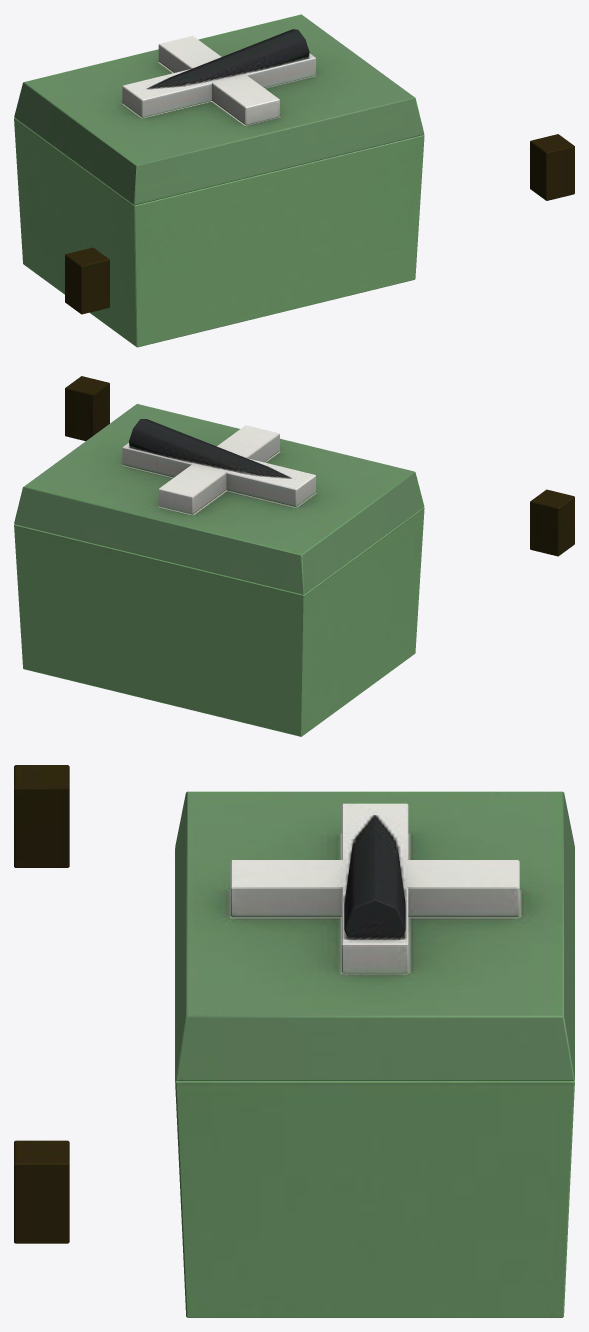
Rendered from IT_medkit_large.glb.
3 renders of one model, top to bottom at view 1: azimuth 30°, elevation 25°; view 2: azimuth 150°, elevation 25°; view 3: azimuth 270°, elevation 25°, orthographic. The views are drawn at different scales.
Parts seen in each view (by area): view 1: IT_medkit_large; view 2: IT_medkit_large; view 3: IT_medkit_large.
Part boxes in pixels (<box>): IT_medkit_large: <box>14,14,574,347</box>; IT_medkit_large: <box>14,376,574,736</box>; IT_medkit_large: <box>14,765,574,1317</box>.
Size of the model in its own units: 0.85 by 0.3671 by 0.505.
1 material, 1 textured.
